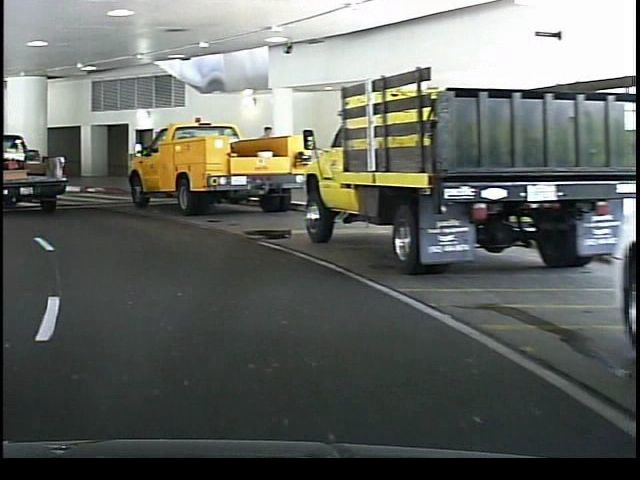person: (253, 122, 277, 198)
